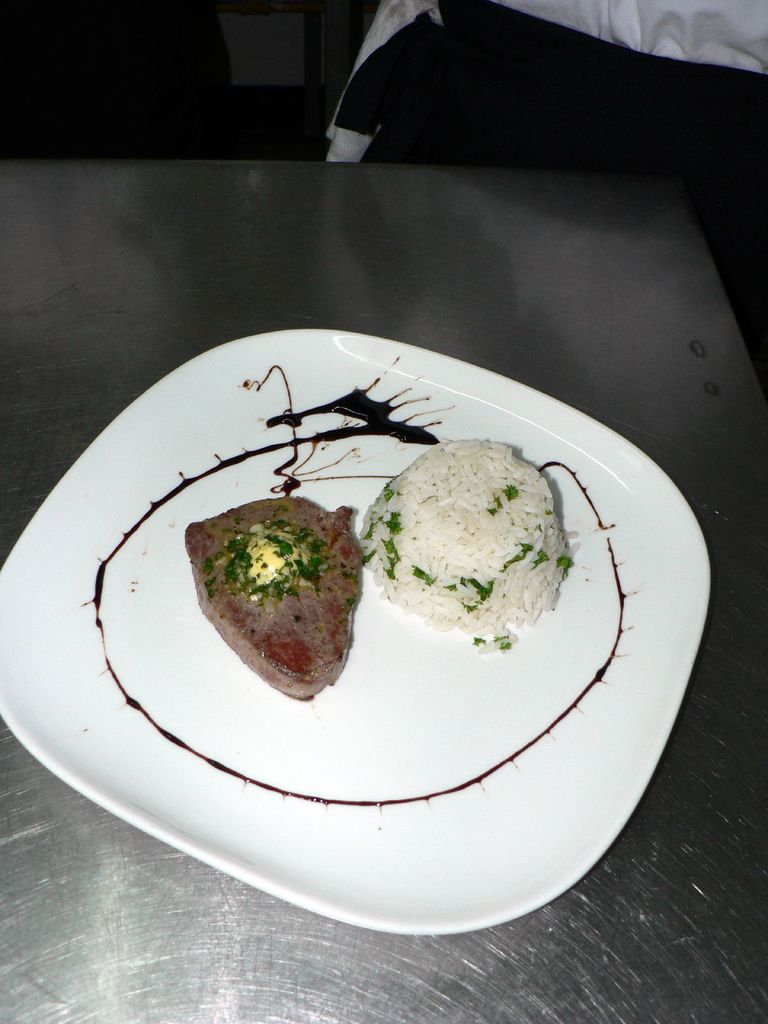plate: (0, 330, 712, 929)
